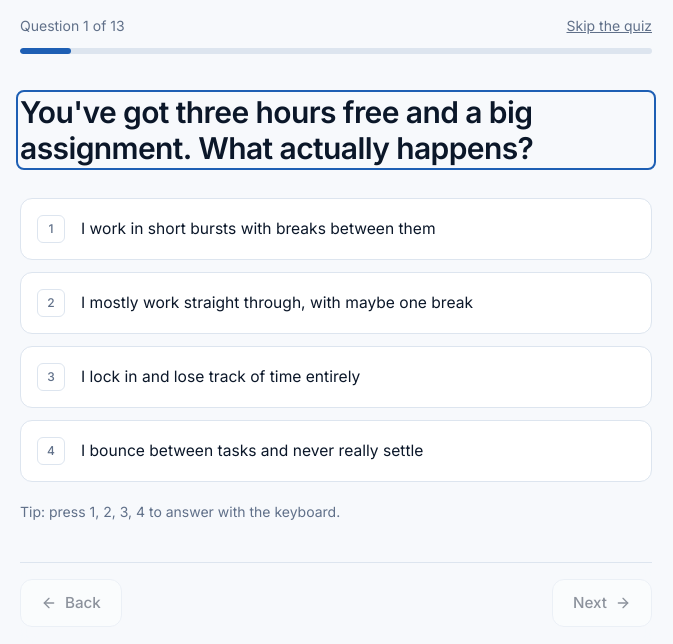
it: QuizFlow navigation › waits for an explicit Next action after an answer is selected
expect the button "Next" is disabled: met, box [552,579,652,627]
Click the button "1 I work in short bursts with breaks between them" at (336, 229), box [20,198,652,260]
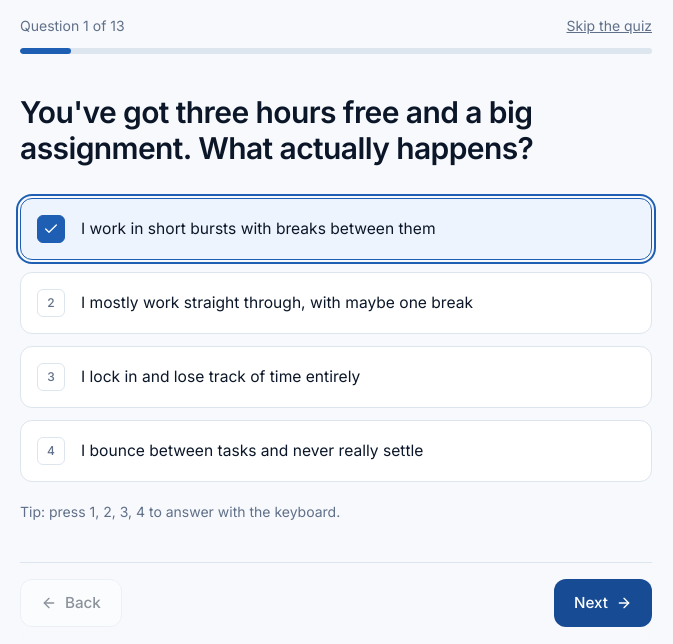
expect the text "Question 1 of 13" is shown: met, box [20,16,125,36]
expect the button "Next" is enabled: met
Click the button "Next" at (603, 603), box [554,579,652,627]
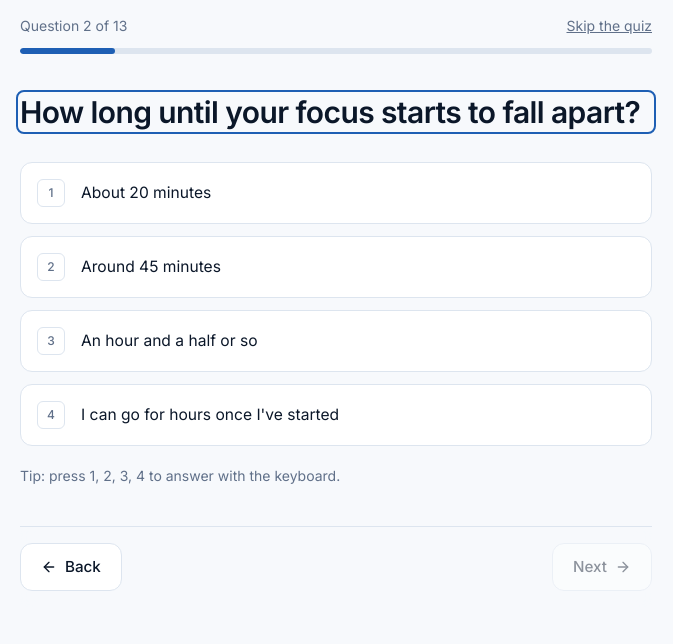
expect the heading "How long until your focus starts to fall apart?" is shown: met, box [20,94,652,130]
